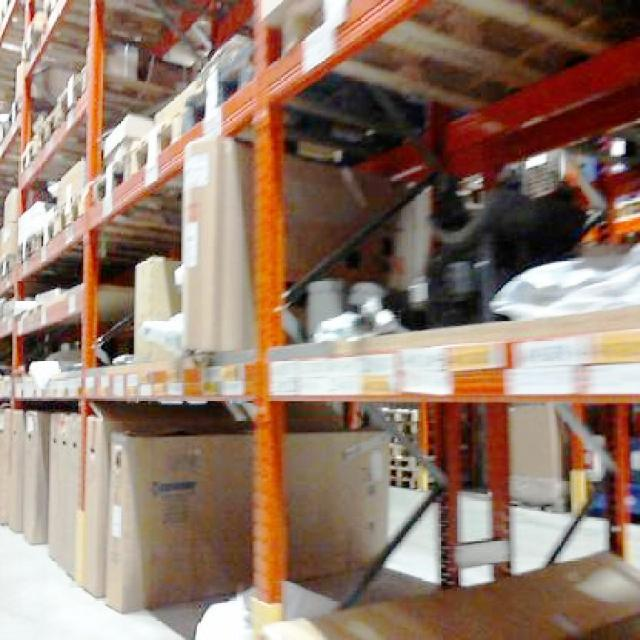ground: (0, 477, 638, 638)
pallet: (0, 402, 392, 612), (248, 546, 638, 638), (94, 24, 262, 233), (0, 0, 93, 291)
